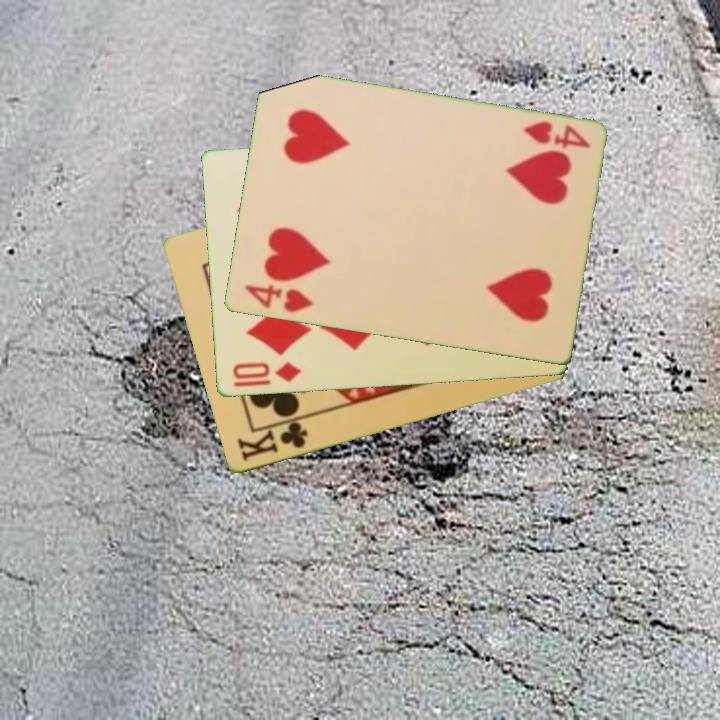10d: (229, 359, 303, 390)
4h: (240, 281, 316, 316), (519, 118, 593, 152)
Kc: (233, 414, 311, 464)
